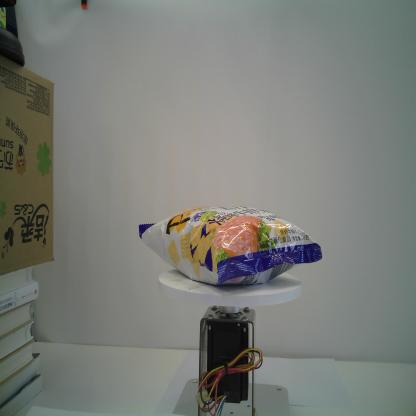Puffed Food: (138, 204, 323, 286)
